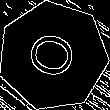O_E: (22, 28, 84, 85)
